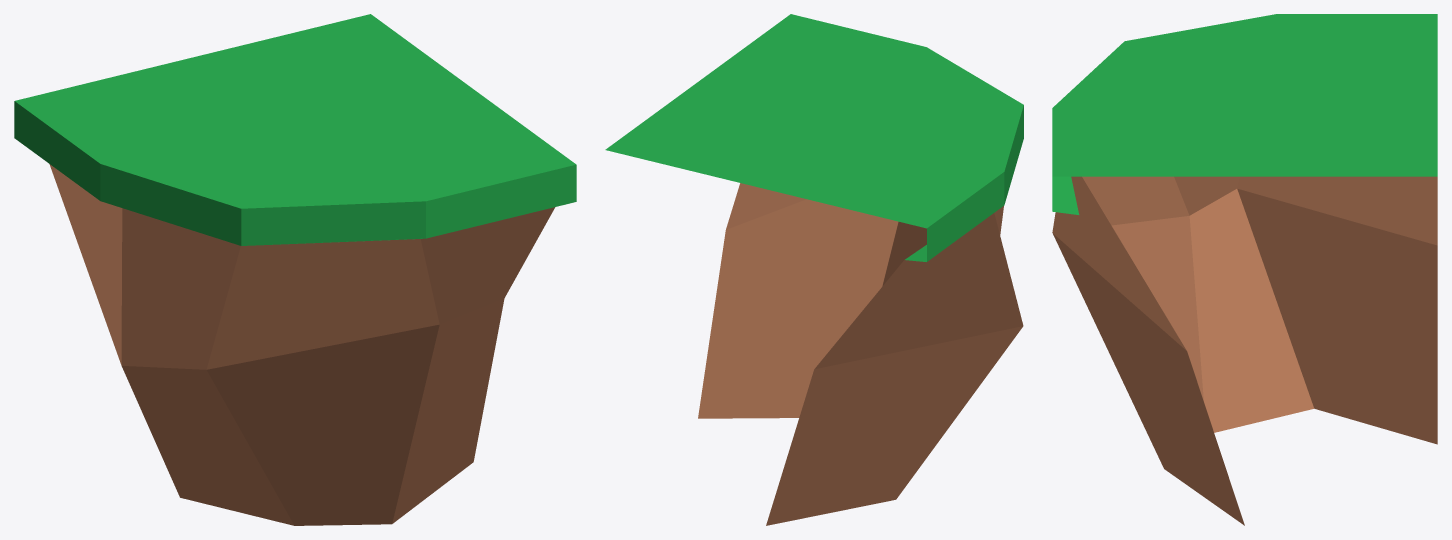
Rendered from Center Top.fbx.
3 renders of one model, left to right at view 1: azimuth 30°, elevation 25°; view 2: azimuth 150°, elevation 25°; view 3: azimuth 270°, elevation 25°, orthographic. The views are drawn at different scales.
Parts seen in each view (by area): view 1: Corner Top; view 2: Corner Top; view 3: Corner Top.
Boxes of the visible parts, <box> form: Corner Top: <box>14,14,576,525</box>; Corner Top: <box>605,14,1023,525</box>; Corner Top: <box>1052,14,1437,525</box>.
Bounding box in the file's own units: 100 × 100 × 100.
